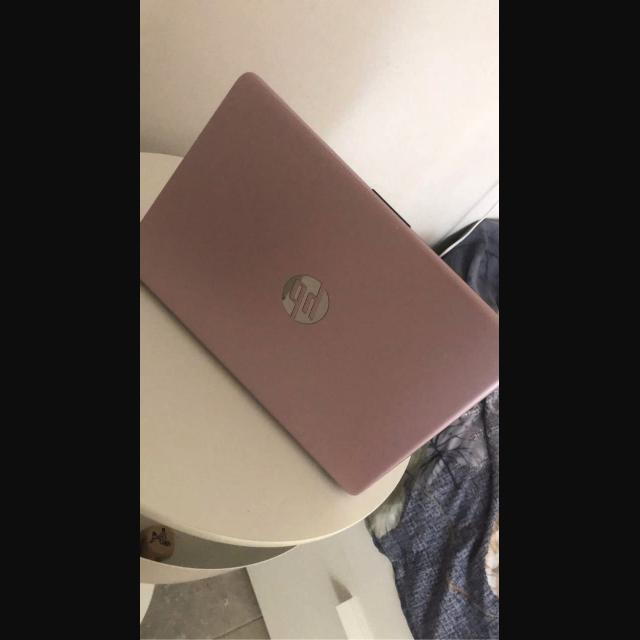laptop: (146, 75, 500, 499)
